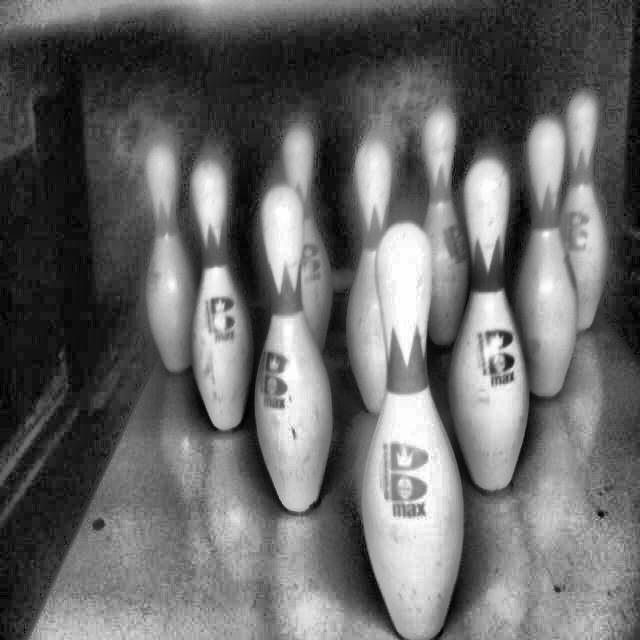bowling-pins: (364, 222, 464, 640), (450, 157, 530, 492), (255, 184, 332, 513), (514, 118, 578, 398), (192, 160, 253, 430), (348, 139, 392, 414), (146, 144, 196, 373), (424, 108, 470, 346), (562, 92, 608, 330), (284, 126, 331, 350)
